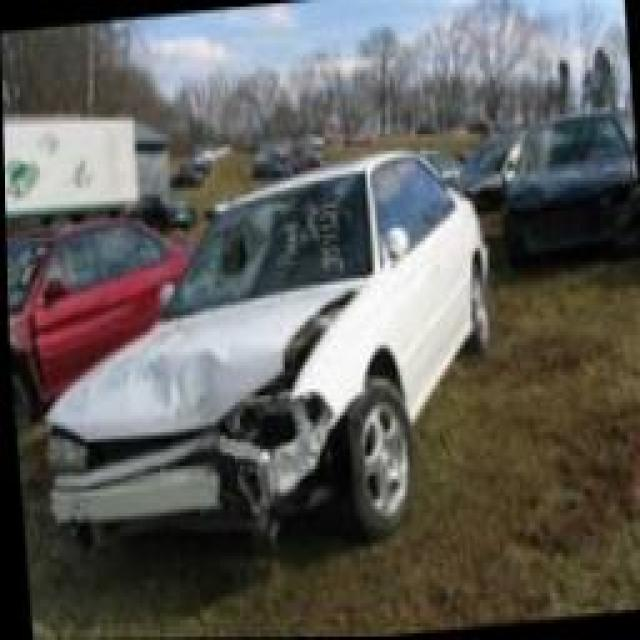Bonnet: (85, 312, 265, 430)
Bumper: (55, 439, 300, 568)
Light: (228, 392, 319, 446)
